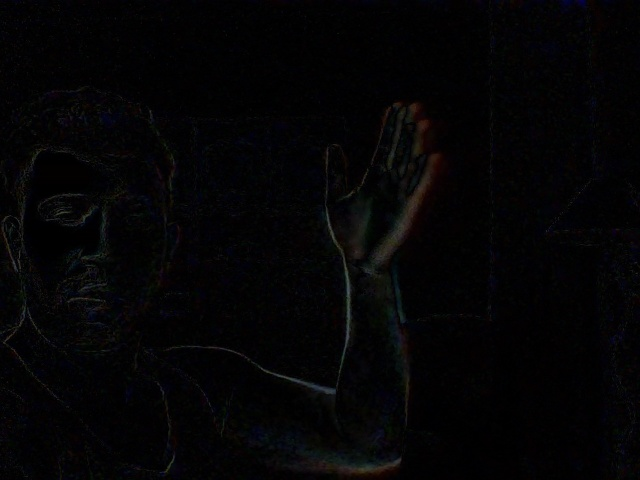arm_fo: (309, 82, 458, 480)
